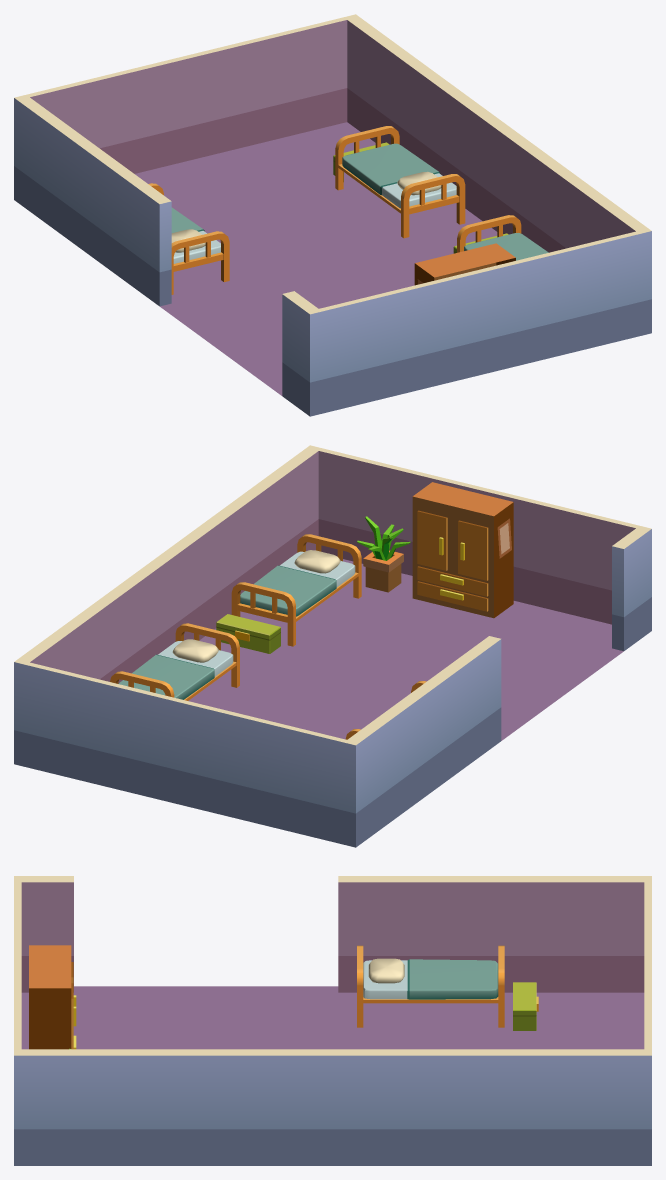
File: Barrack_Lv1_VIP_Right.fbx
3 renders of one model, top to bottom at view 1: azimuth 30°, elevation 25°; view 2: azimuth 150°, elevation 25°; view 3: azimuth 270°, elevation 25°, orthographic. The views are drawn at different scales.
Visible parts, largest first — view 1: Barrack_Lv1_VIP_Right7, Barrack_Lv1_VIP_Right1, Barrack_Lv1_VIP_Right3, Barrack_Lv1_VIP_Right12, Barrack_Lv1_VIP_Right13, Barrack_Lv1_VIP_Right16, Barrack_Lv1_VIP_Right2, Barrack_Lv1_VIP_Right17, Barrack_Lv1_VIP_Right6, Barrack_Lv1_VIP_Right15; view 2: Barrack_Lv1_VIP_Right7, Barrack_Lv1_VIP_Right3, Barrack_Lv1_VIP_Right12, Barrack_Lv1_VIP_Right1, Barrack_Lv1_VIP_Right13, Barrack_Lv1_VIP_Right6, Barrack_Lv1_VIP_Right15, Barrack_Lv1_VIP_Right16, Barrack_Lv1_VIP_Right2, Barrack_Lv1_VIP_Right14, Barrack_Lv1_VIP_Right10; view 3: Barrack_Lv1_VIP_Right12, Barrack_Lv1_VIP_Right7, Barrack_Lv1_VIP_Right13, Barrack_Lv1_VIP_Right17, Barrack_Lv1_VIP_Right6, Barrack_Lv1_VIP_Right2, Barrack_Lv1_VIP_Right3, Barrack_Lv1_VIP_Right1, Barrack_Lv1_VIP_Right11.
Part boxes in pixels (bbox=[...]): Barrack_Lv1_VIP_Right7: bbox=[135, 122, 497, 395]; Barrack_Lv1_VIP_Right1: bbox=[307, 230, 651, 413]; Barrack_Lv1_VIP_Right3: bbox=[16, 14, 358, 173]; Barrack_Lv1_VIP_Right12: bbox=[344, 14, 650, 252]; Barrack_Lv1_VIP_Right13: bbox=[14, 95, 171, 306]; Barrack_Lv1_VIP_Right16: bbox=[335, 126, 465, 238]; Barrack_Lv1_VIP_Right2: bbox=[282, 291, 322, 416]; Barrack_Lv1_VIP_Right17: bbox=[148, 183, 229, 294]; Barrack_Lv1_VIP_Right6: bbox=[414, 243, 515, 285]; Barrack_Lv1_VIP_Right15: bbox=[457, 215, 548, 260]; Barrack_Lv1_VIP_Right7: bbox=[188, 559, 623, 740]; Barrack_Lv1_VIP_Right3: bbox=[14, 659, 356, 847]; Barrack_Lv1_VIP_Right12: bbox=[14, 445, 321, 766]; Barrack_Lv1_VIP_Right1: bbox=[307, 446, 651, 624]; Barrack_Lv1_VIP_Right13: bbox=[344, 636, 501, 847]; Barrack_Lv1_VIP_Right6: bbox=[412, 482, 513, 618]; Barrack_Lv1_VIP_Right15: bbox=[231, 534, 361, 646]; Barrack_Lv1_VIP_Right16: bbox=[110, 623, 239, 700]; Barrack_Lv1_VIP_Right2: bbox=[612, 526, 651, 651]; Barrack_Lv1_VIP_Right14: bbox=[357, 516, 410, 592]; Barrack_Lv1_VIP_Right10: bbox=[216, 614, 280, 653]; Barrack_Lv1_VIP_Right12: bbox=[14, 1049, 651, 1165]; Barrack_Lv1_VIP_Right7: bbox=[21, 986, 644, 1049]; Barrack_Lv1_VIP_Right13: bbox=[338, 876, 651, 992]; Barrack_Lv1_VIP_Right17: bbox=[357, 945, 504, 1027]; Barrack_Lv1_VIP_Right6: bbox=[29, 945, 76, 1049]; Barrack_Lv1_VIP_Right2: bbox=[14, 876, 73, 992]; Barrack_Lv1_VIP_Right3: bbox=[644, 876, 651, 1165]; Barrack_Lv1_VIP_Right1: bbox=[14, 876, 21, 1055]; Barrack_Lv1_VIP_Right11: bbox=[513, 982, 538, 1030].
Size of the model in its own units: 700 by 202 by 1050.
